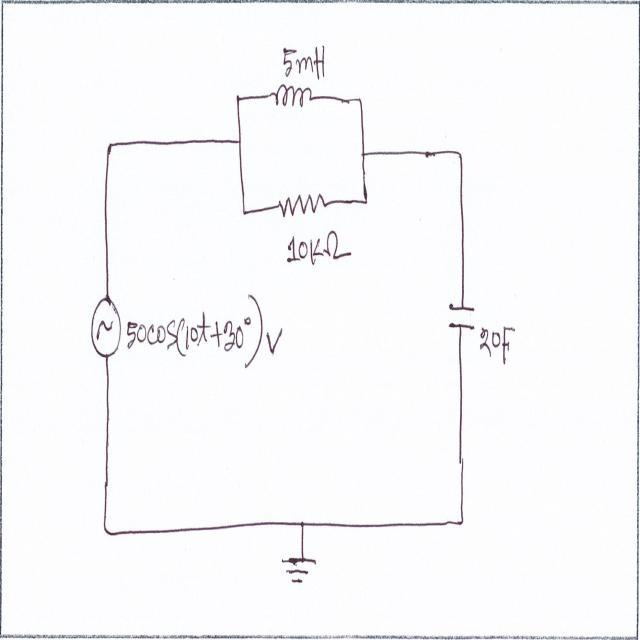ac_current: (88, 293, 123, 361)
capacitor: (446, 291, 478, 339)
ground: (276, 550, 320, 589)
inductor: (274, 76, 314, 116)
resistor: (277, 189, 328, 225)
